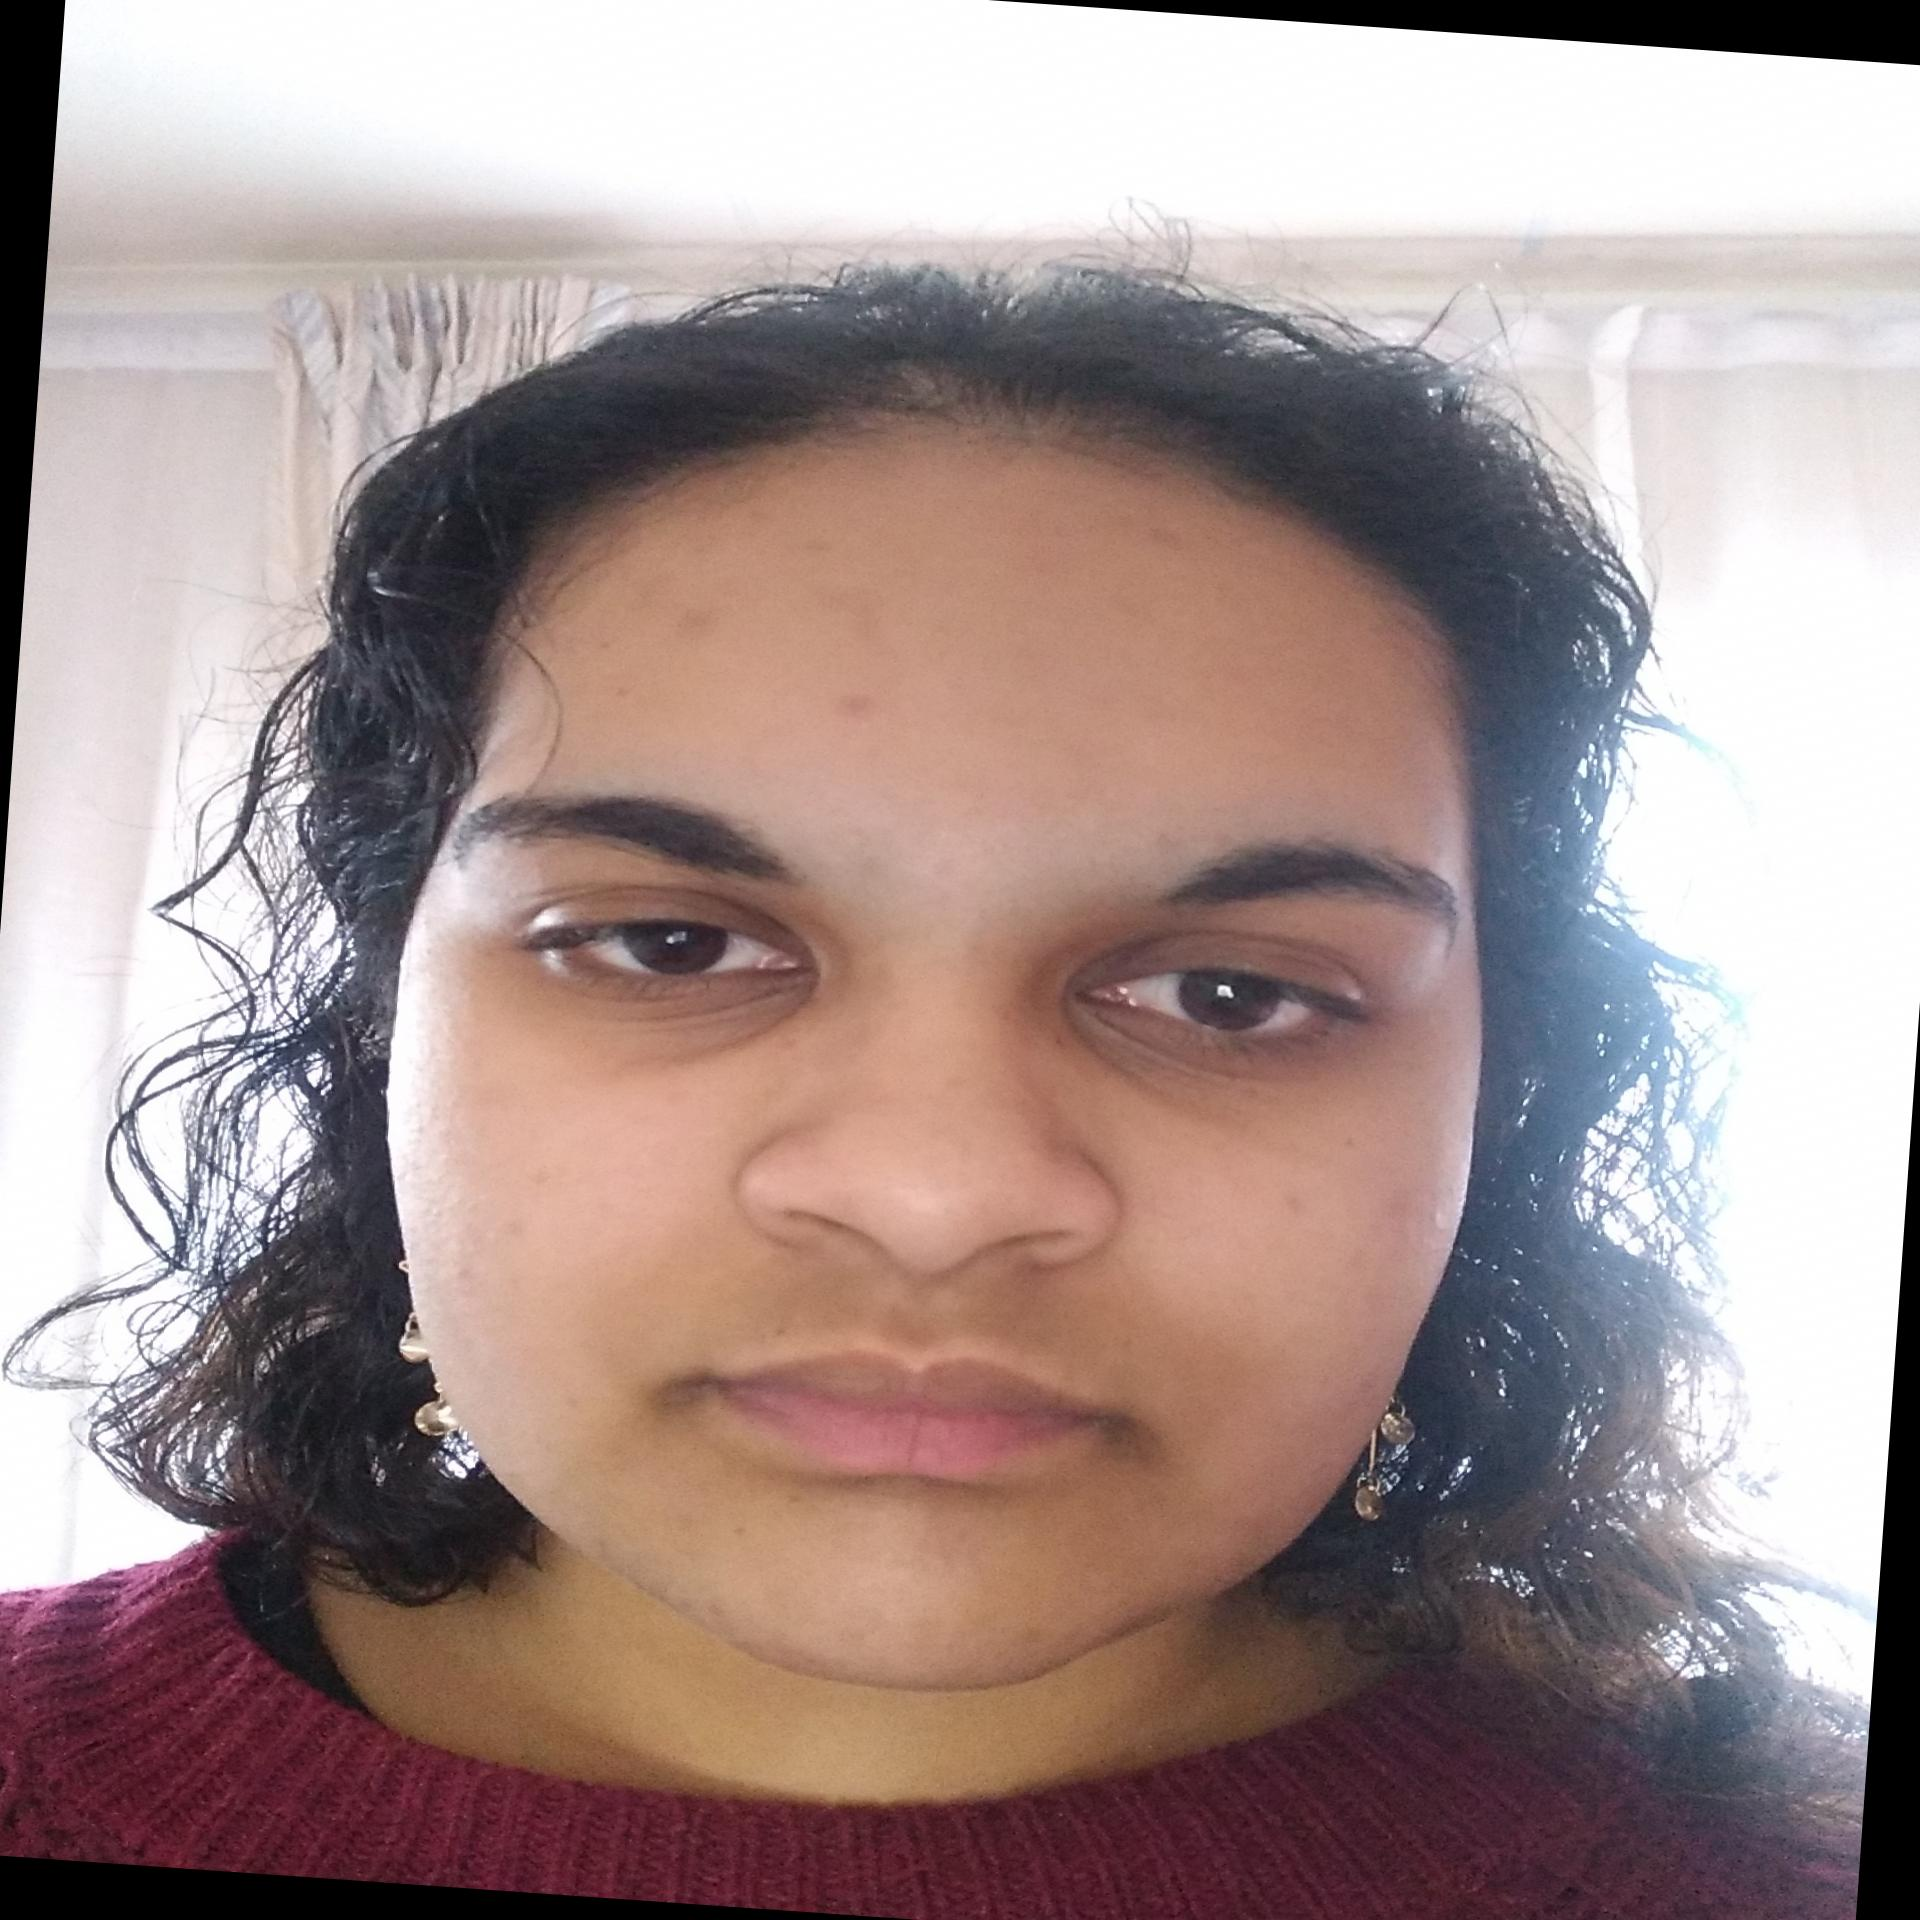Acne: (782, 522, 847, 566), (661, 601, 731, 642), (1132, 821, 1199, 855), (1262, 1192, 1335, 1222), (835, 687, 883, 731), (680, 1589, 733, 1626), (1138, 517, 1190, 552), (501, 1213, 540, 1255), (1422, 1208, 1459, 1236), (1020, 1621, 1051, 1649)
Dark Circles: (1055, 995, 1373, 1127), (513, 939, 823, 1073)
